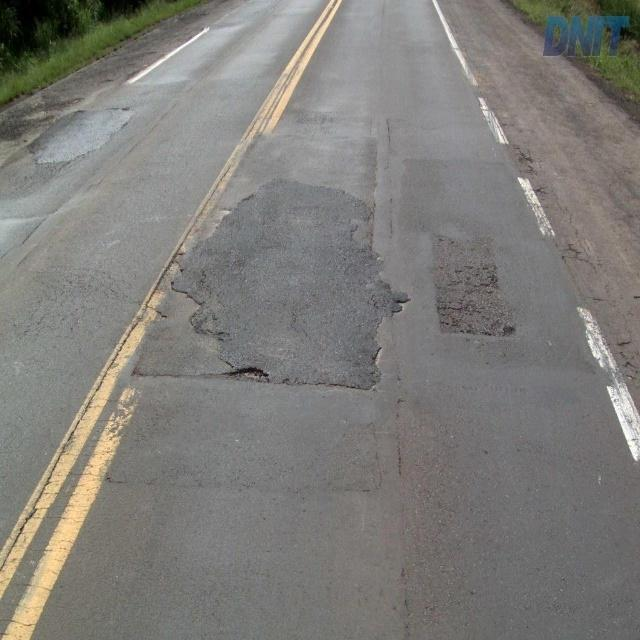pothole: (435, 238, 508, 337), (213, 358, 280, 389)
